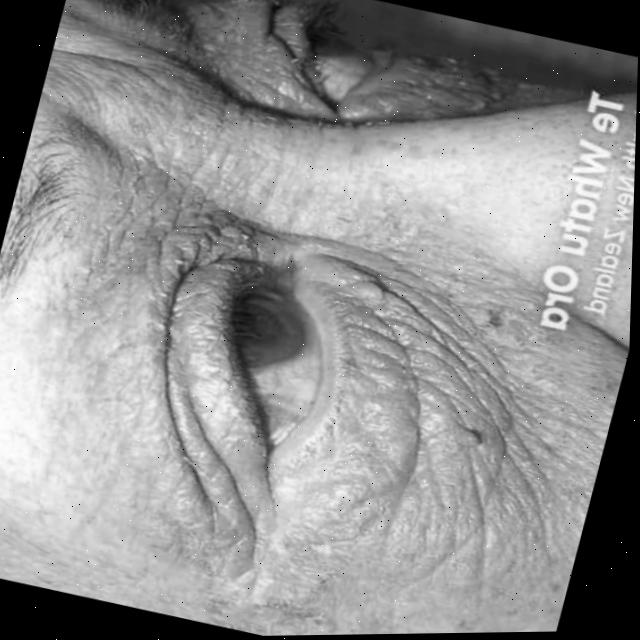Eczema: (216, 226, 524, 527), (380, 39, 496, 154), (220, 0, 321, 100)
